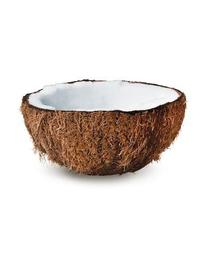coconut: (19, 74, 187, 175)
